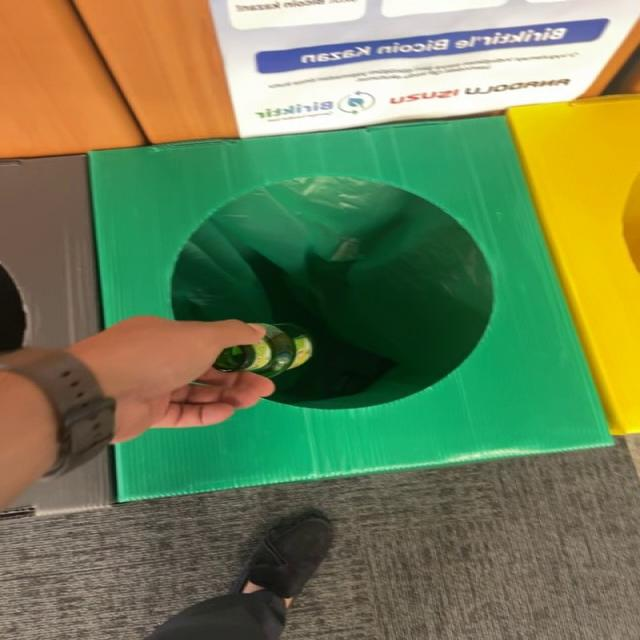glass: (213, 324, 312, 378)
